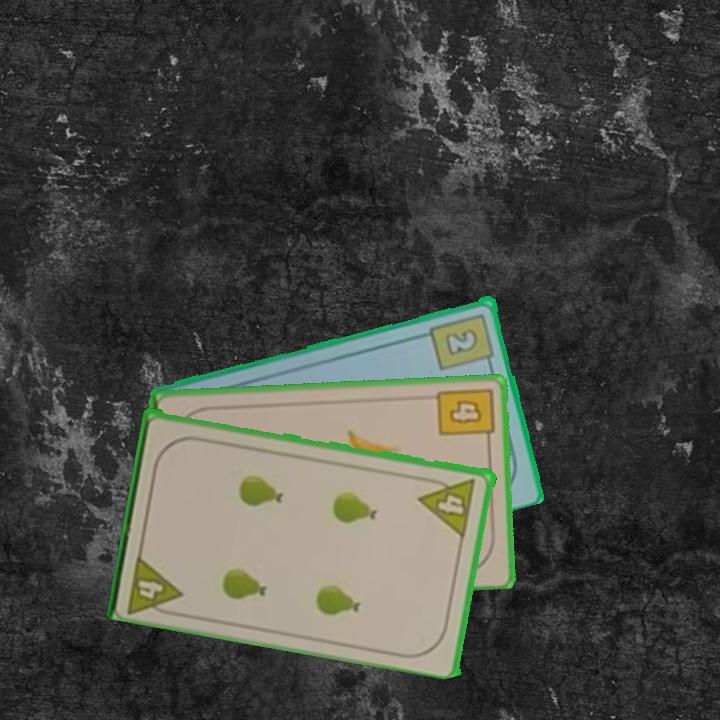2b: (427, 309, 498, 373)
4b: (433, 383, 497, 448)
4p: (123, 548, 186, 619), (417, 473, 479, 539)
